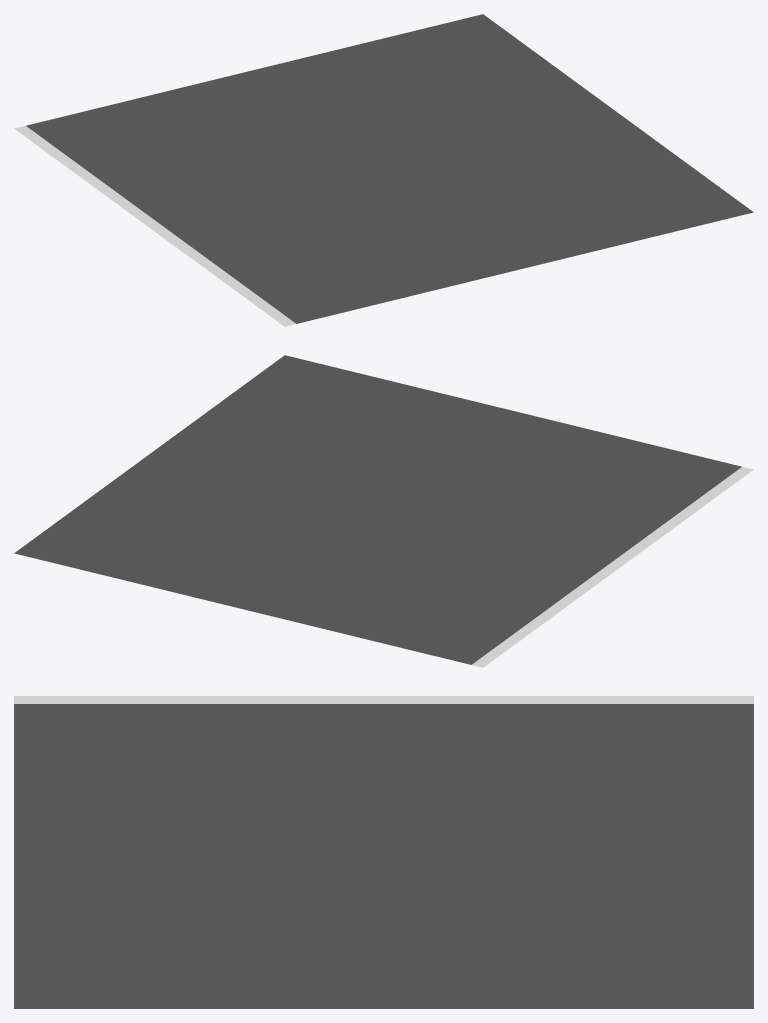
Rendered from RoadPart_03.fbx.
The picture shows the model from 3 angles, top to bottom: view 1: azimuth 30°, elevation 25°; view 2: azimuth 150°, elevation 25°; view 3: azimuth 270°, elevation 25°; orthographic projection. The views are drawn at different scales.
Parts seen in each view (by area): view 1: RoadPart_03; view 2: RoadPart_03; view 3: RoadPart_03.
Part boxes in pixels (<box>): RoadPart_03: <box>14,14,753,326</box>; RoadPart_03: <box>14,355,753,667</box>; RoadPart_03: <box>14,696,753,1008</box>.
Size of the model in its own units: 300 by 0.000146 by 300.
